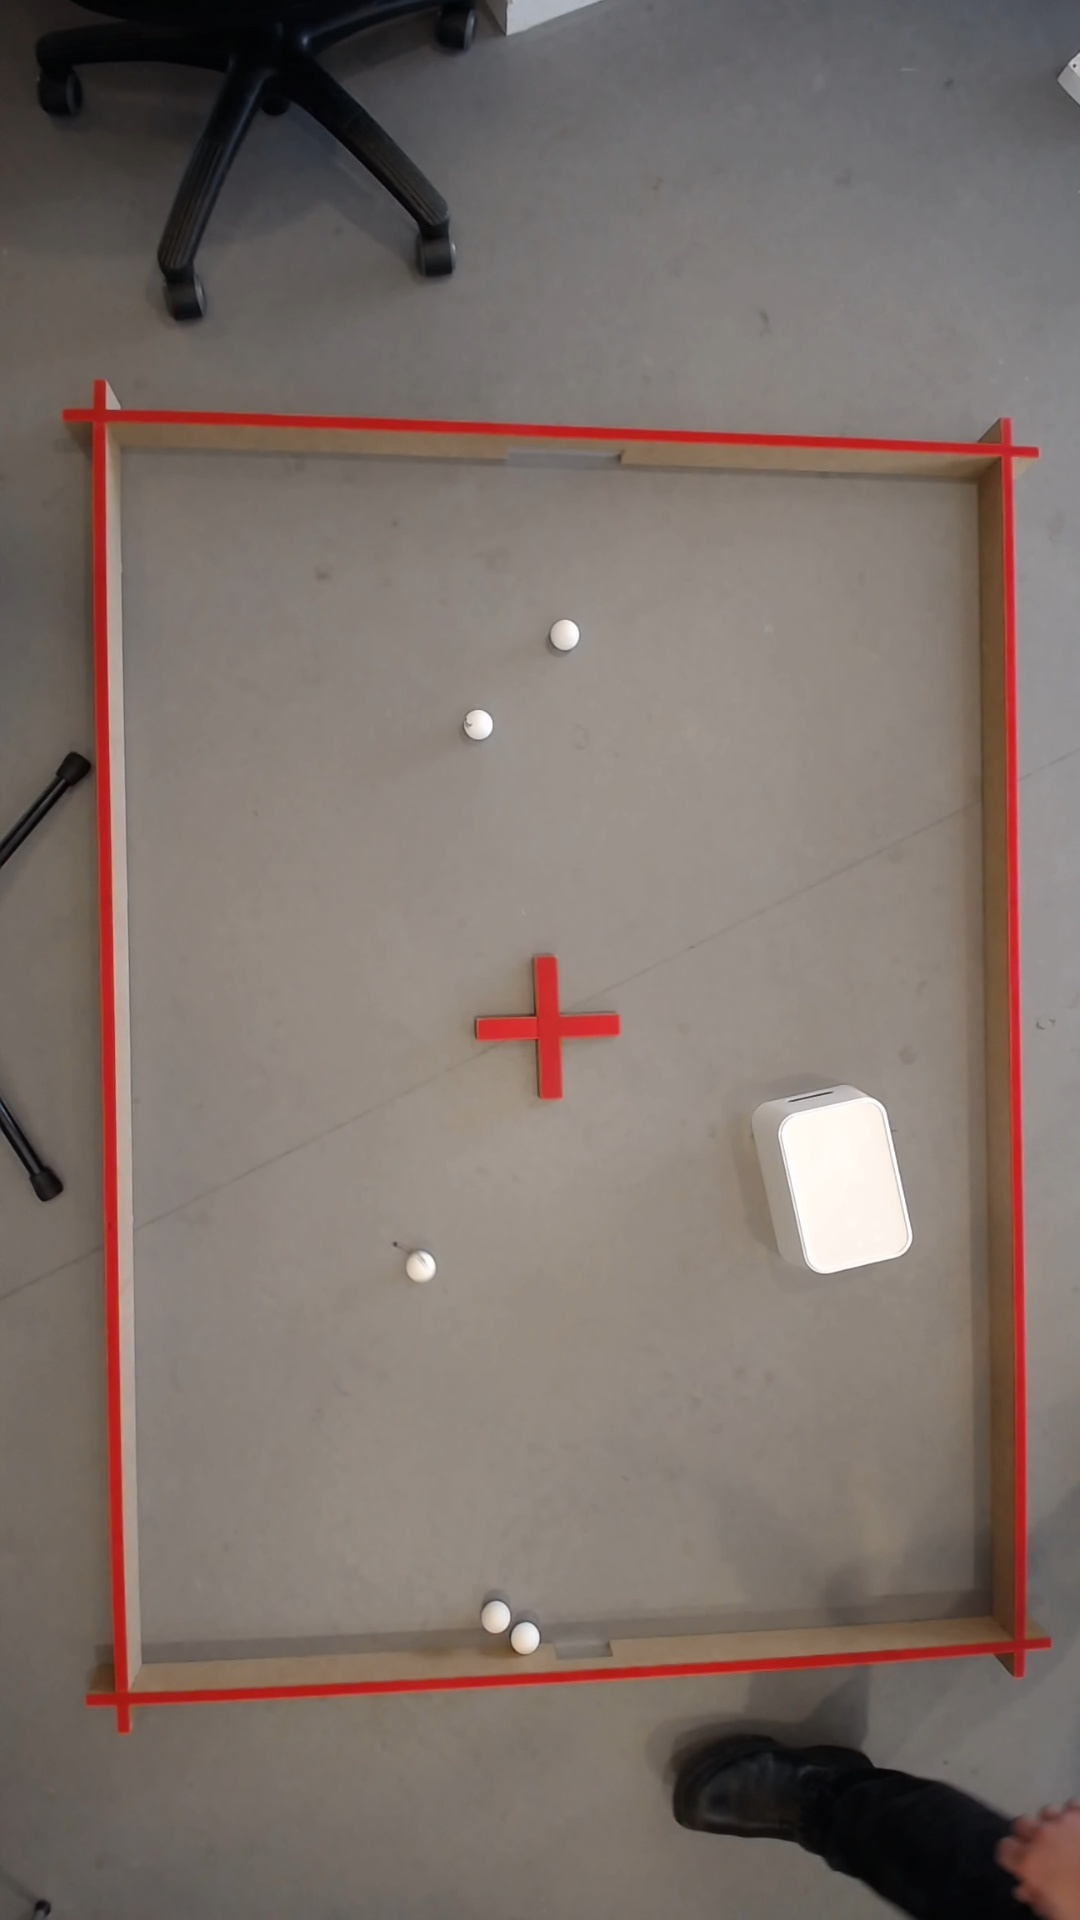balls: (773, 1092, 916, 1278), (462, 705, 497, 741), (405, 1249, 440, 1284), (551, 615, 583, 650), (514, 1619, 541, 1651)
car: (485, 1600, 514, 1631)
